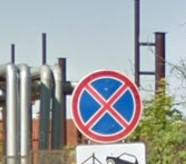No Parking: (71, 70, 143, 145)
